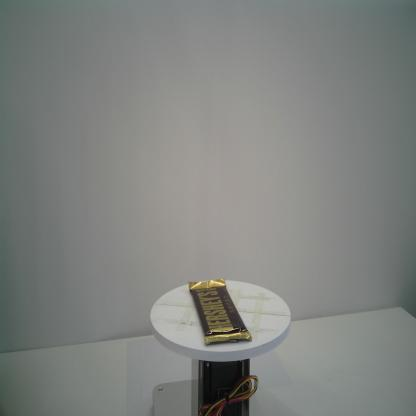Chocolate: (186, 279, 252, 346)
